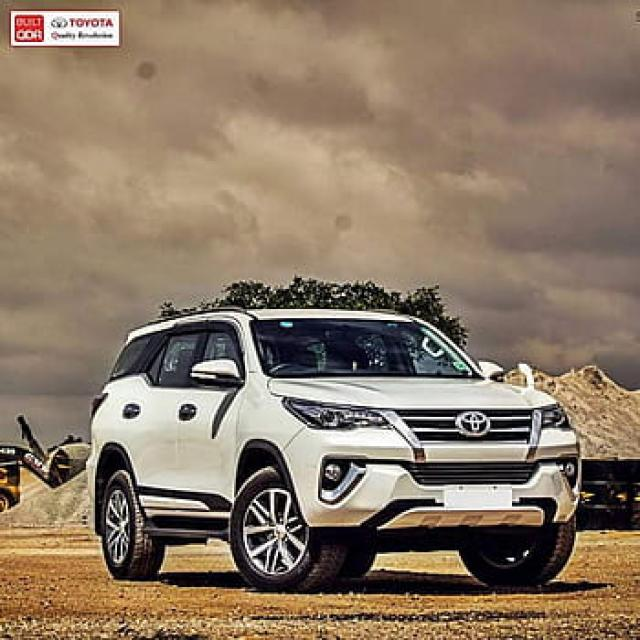light_vehicle: (86, 306, 583, 594)
